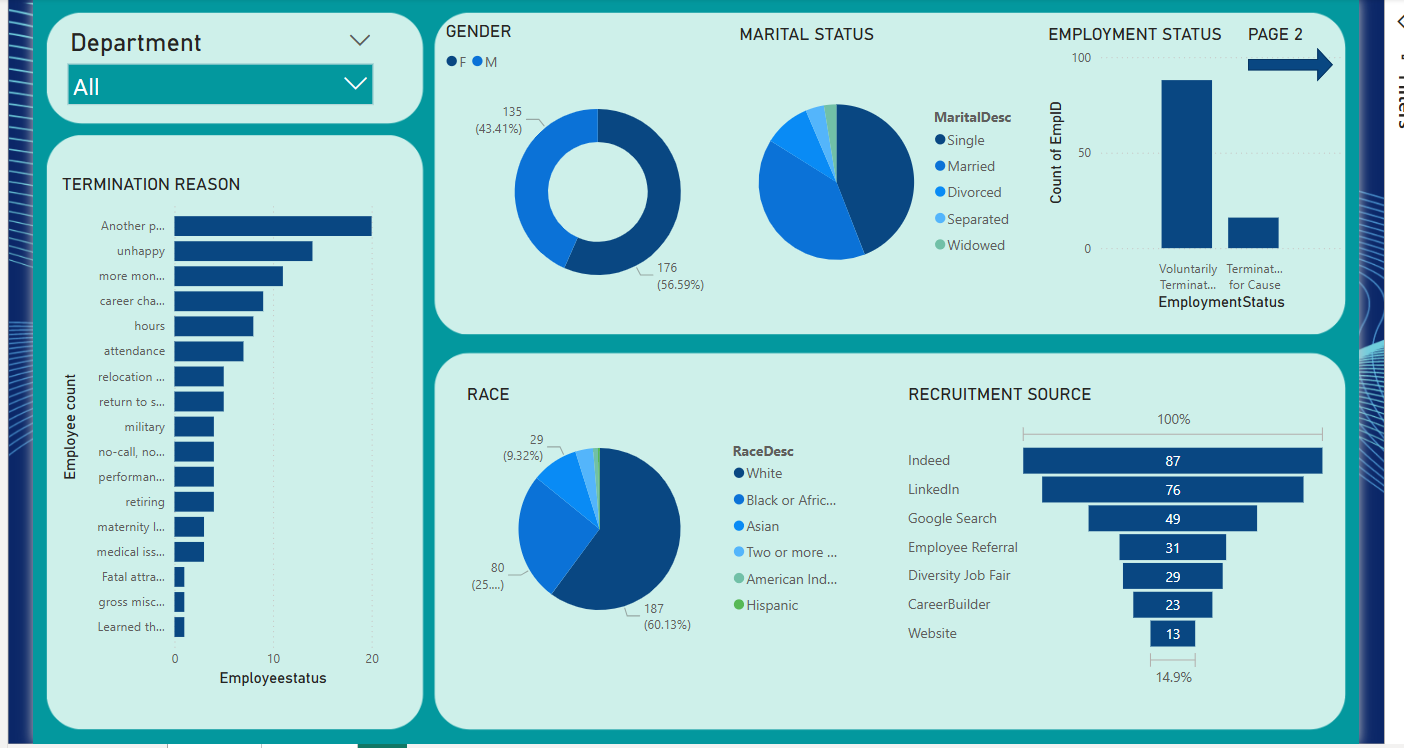

The page's visual inventory and layout, read from the dashboard file:
{"tool":"powerbi","page":{"name":"Page 1","canvas":[1280,720],"ordinal":0},"visuals":[{"type":"slicer","fields":{"Values":["HRDataset.Department"]},"box":[23.3,24.7,315.6,91.9],"z":0},{"type":"donutChart","title":"GENDER","fields":{"Category":["HRDataset.Sex"],"Y":["CountNonNull(HRDataset.EmpID)"]},"box":[393.3,21.7,304,282.3],"z":1},{"type":"pieChart","title":"MARITAL STATUS","fields":{"Category":["HRDataset.MaritalDesc"],"Y":["CountNonNull(HRDataset.EmpID)"]},"box":[676.8,24.1,289.5,288.3],"z":2},{"type":"columnChart","title":"EMPLOYMENT STATUS","fields":{"Category":["HRDataset.EmploymentStatus"],"Y":["CountNonNull(HRDataset.EmpID)"]},"box":[974.8,24.1,293.2,282.3],"z":3},{"type":"barChart","title":"TERMINATION REASON","fields":{"Category":["HRDataset.TermReason"],"Y":["CountNonNull(HRDataset.EmpID)"]},"box":[22.9,168.9,316.1,500.7],"z":4},{"type":"pieChart","title":"RACE","fields":{"Category":["HRDataset.RaceDesc"],"Y":["CountNonNull(HRDataset.EmpID)"]},"box":[413.8,371.6,376.4,263],"z":5},{"type":"funnel","title":"RECRUITMENT SOURCE","fields":{"Category":["HRDataset.RecruitmentSource"],"Y":["CountNonNull(HRDataset.EmpID)"]},"box":[839.7,371.6,415,298],"z":6}]}

Visuals, with their boxes on the page's 1280x720 design canvas (x1, y1, x2, y2). These are canvas units, not pixel positions in the 1404x748 screenshot, which may show the page scaled, cropped or inside an application window:
slicer - HRDataset.Department: [left=23, top=25, right=339, bottom=117]
"GENDER" donutChart: [left=393, top=22, right=697, bottom=304]
"MARITAL STATUS" pieChart: [left=677, top=24, right=966, bottom=312]
"EMPLOYMENT STATUS" columnChart: [left=975, top=24, right=1268, bottom=306]
"TERMINATION REASON" barChart: [left=23, top=169, right=339, bottom=670]
"RACE" pieChart: [left=414, top=372, right=790, bottom=635]
"RECRUITMENT SOURCE" funnel: [left=840, top=372, right=1255, bottom=670]
